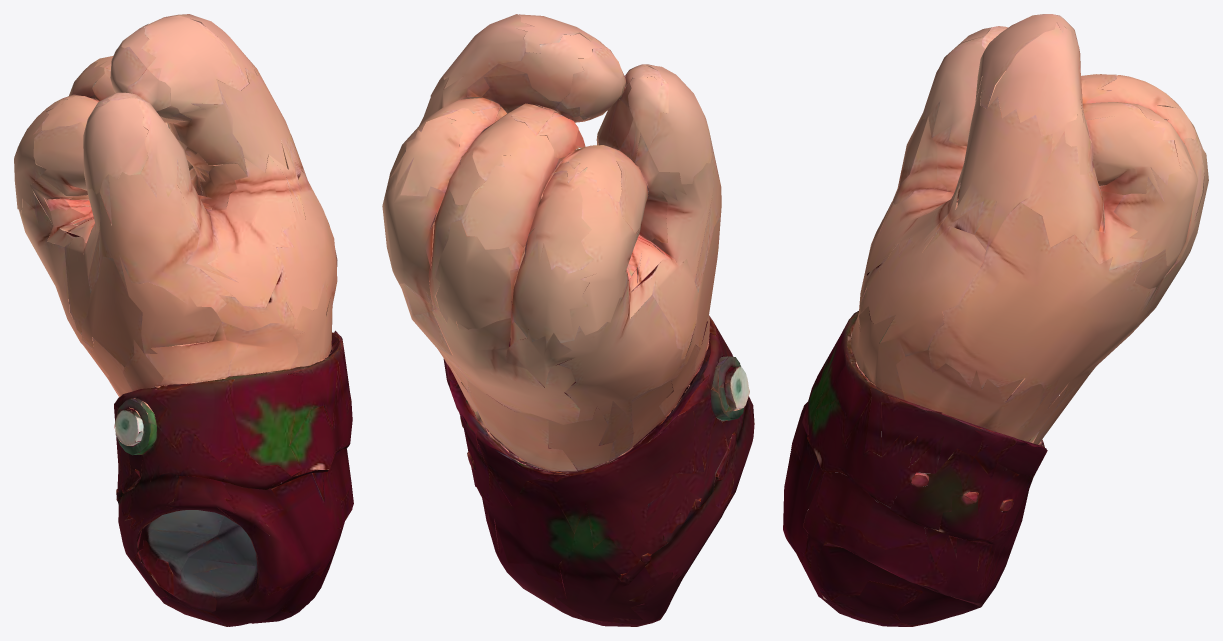
File: fist-lizzie.glb
The picture shows the model from 3 angles, left to right: view 1: azimuth 30°, elevation 25°; view 2: azimuth 150°, elevation 25°; view 3: azimuth 270°, elevation 25°; orthographic projection. The views are drawn at different scales.
Parts seen in each view (by area): view 1: Mesh_0; view 2: Mesh_0; view 3: Mesh_0.
Part boxes in pixels (x1,y1,x2,y2): Mesh_0: [14, 14, 353, 626]; Mesh_0: [382, 14, 754, 626]; Mesh_0: [783, 14, 1208, 626].
Size of the model in its own units: 0.4505 by 0.9998 by 0.6477.
Materials: 1 (1 with a texture image).
